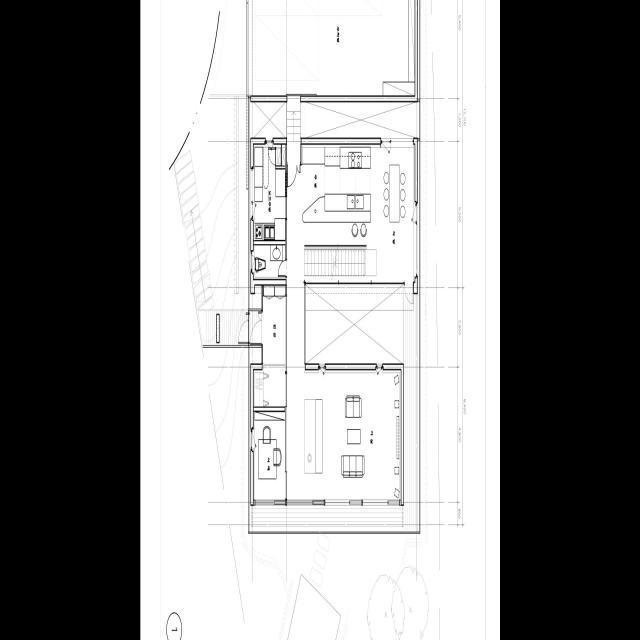background: (140, 0, 500, 640)
space_front: (253, 286, 286, 407)
space_kitchen: (287, 145, 414, 282), (253, 145, 285, 240), (276, 145, 281, 166)
space_living_room: (287, 245, 401, 500)
space_other: (250, 0, 414, 96), (253, 411, 285, 500), (282, 145, 285, 166)
space_staircase: (304, 246, 366, 282)
space_toilet: (252, 245, 285, 279)
